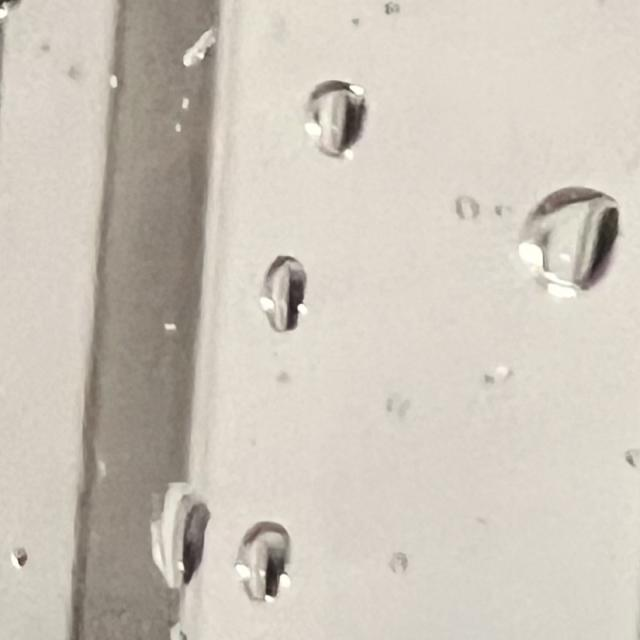raindrop: (526, 192, 636, 300), (284, 71, 368, 171), (150, 488, 216, 591), (236, 522, 302, 603), (247, 249, 311, 331), (171, 19, 241, 82), (448, 188, 490, 239), (466, 360, 519, 390), (606, 446, 640, 476)
